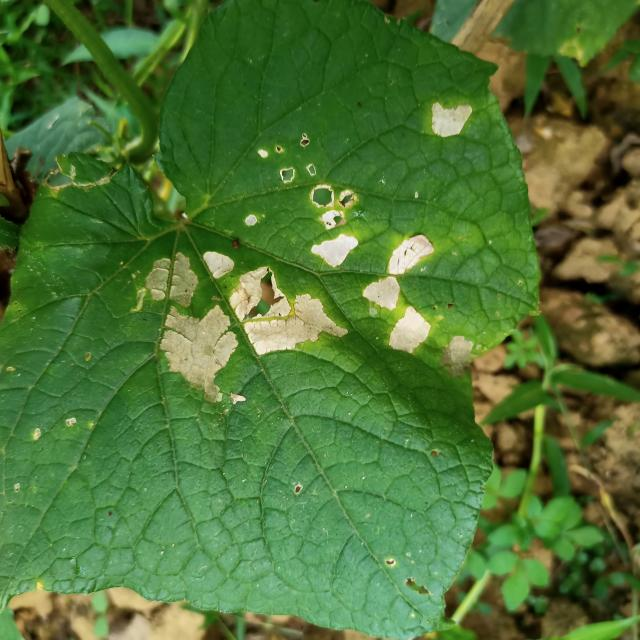disease_cucumber: (132, 242, 353, 413), (246, 134, 360, 272), (365, 216, 435, 366), (423, 96, 481, 146)
